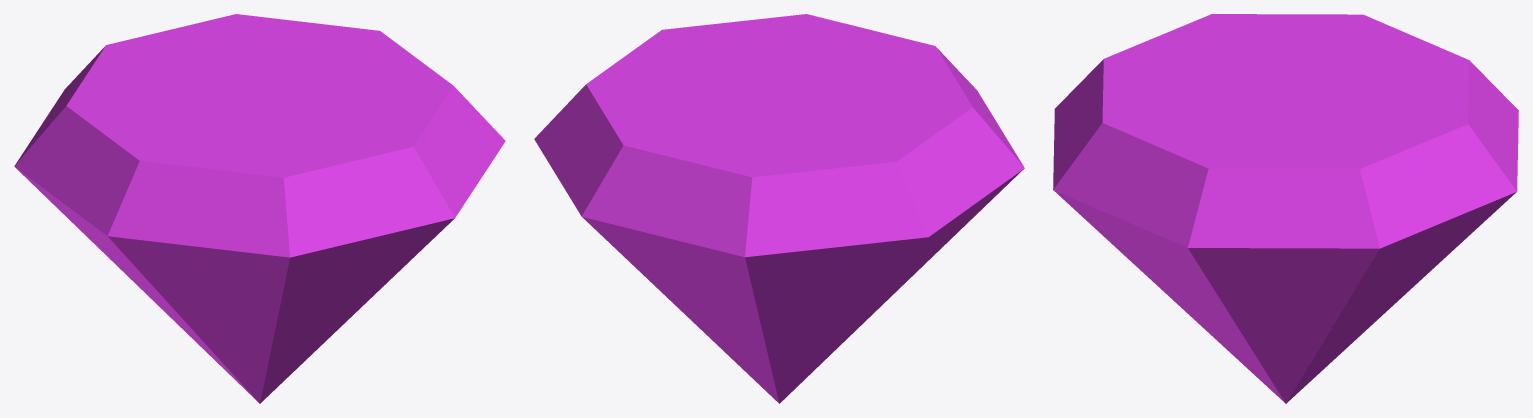
The model's file is diaomond.fbx.
3 views of the same model, side by side, from view 1: azimuth 30°, elevation 25°; view 2: azimuth 150°, elevation 25°; view 3: azimuth 270°, elevation 25° (orthographic).
Parts seen in each view (by area): view 1: Circle; view 2: Circle; view 3: Circle.
Boxes of the visible parts, bbox=[...] form: Circle: bbox=[14, 14, 505, 403]; Circle: bbox=[534, 14, 1024, 403]; Circle: bbox=[1053, 14, 1518, 403].
Bounding box in the file's own units: 0.3639 × 0.2694 × 0.3639.
